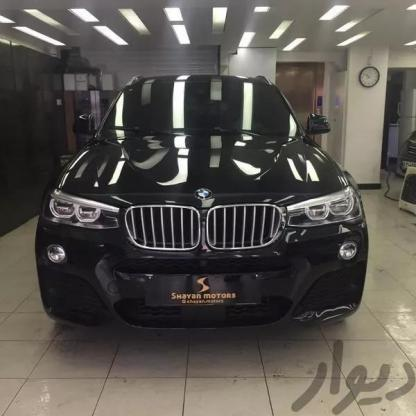Car: (27, 68, 374, 360)
